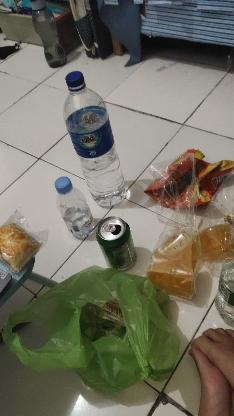Can: (96, 216, 138, 272)
Others: (1, 266, 181, 396), (144, 148, 234, 210)
Plastic Bottle: (63, 72, 125, 206), (55, 176, 96, 240)
